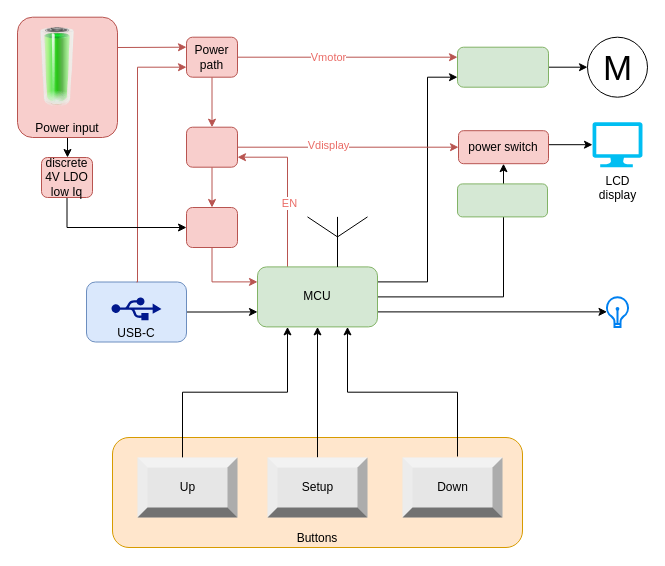
Some shapes in this 665 by 566 pixel diagram are drawn without their labels. The shapes that lost their labels are listed below. From the top down, each one's centre as x and y in pixels, then its label:
At [502,66]: "Motor driver".
At [212,146]: "discrete 5V LDO".
At [502,200]: "I2C level translator".
At [212,227]: "LDO 3V3".
At [337,241]: "WiFi".
At [617,311]: "Bicolor LED".
